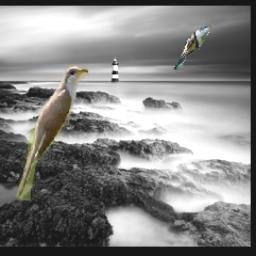Cuckoo: (16, 65, 89, 200), (173, 24, 212, 70)
